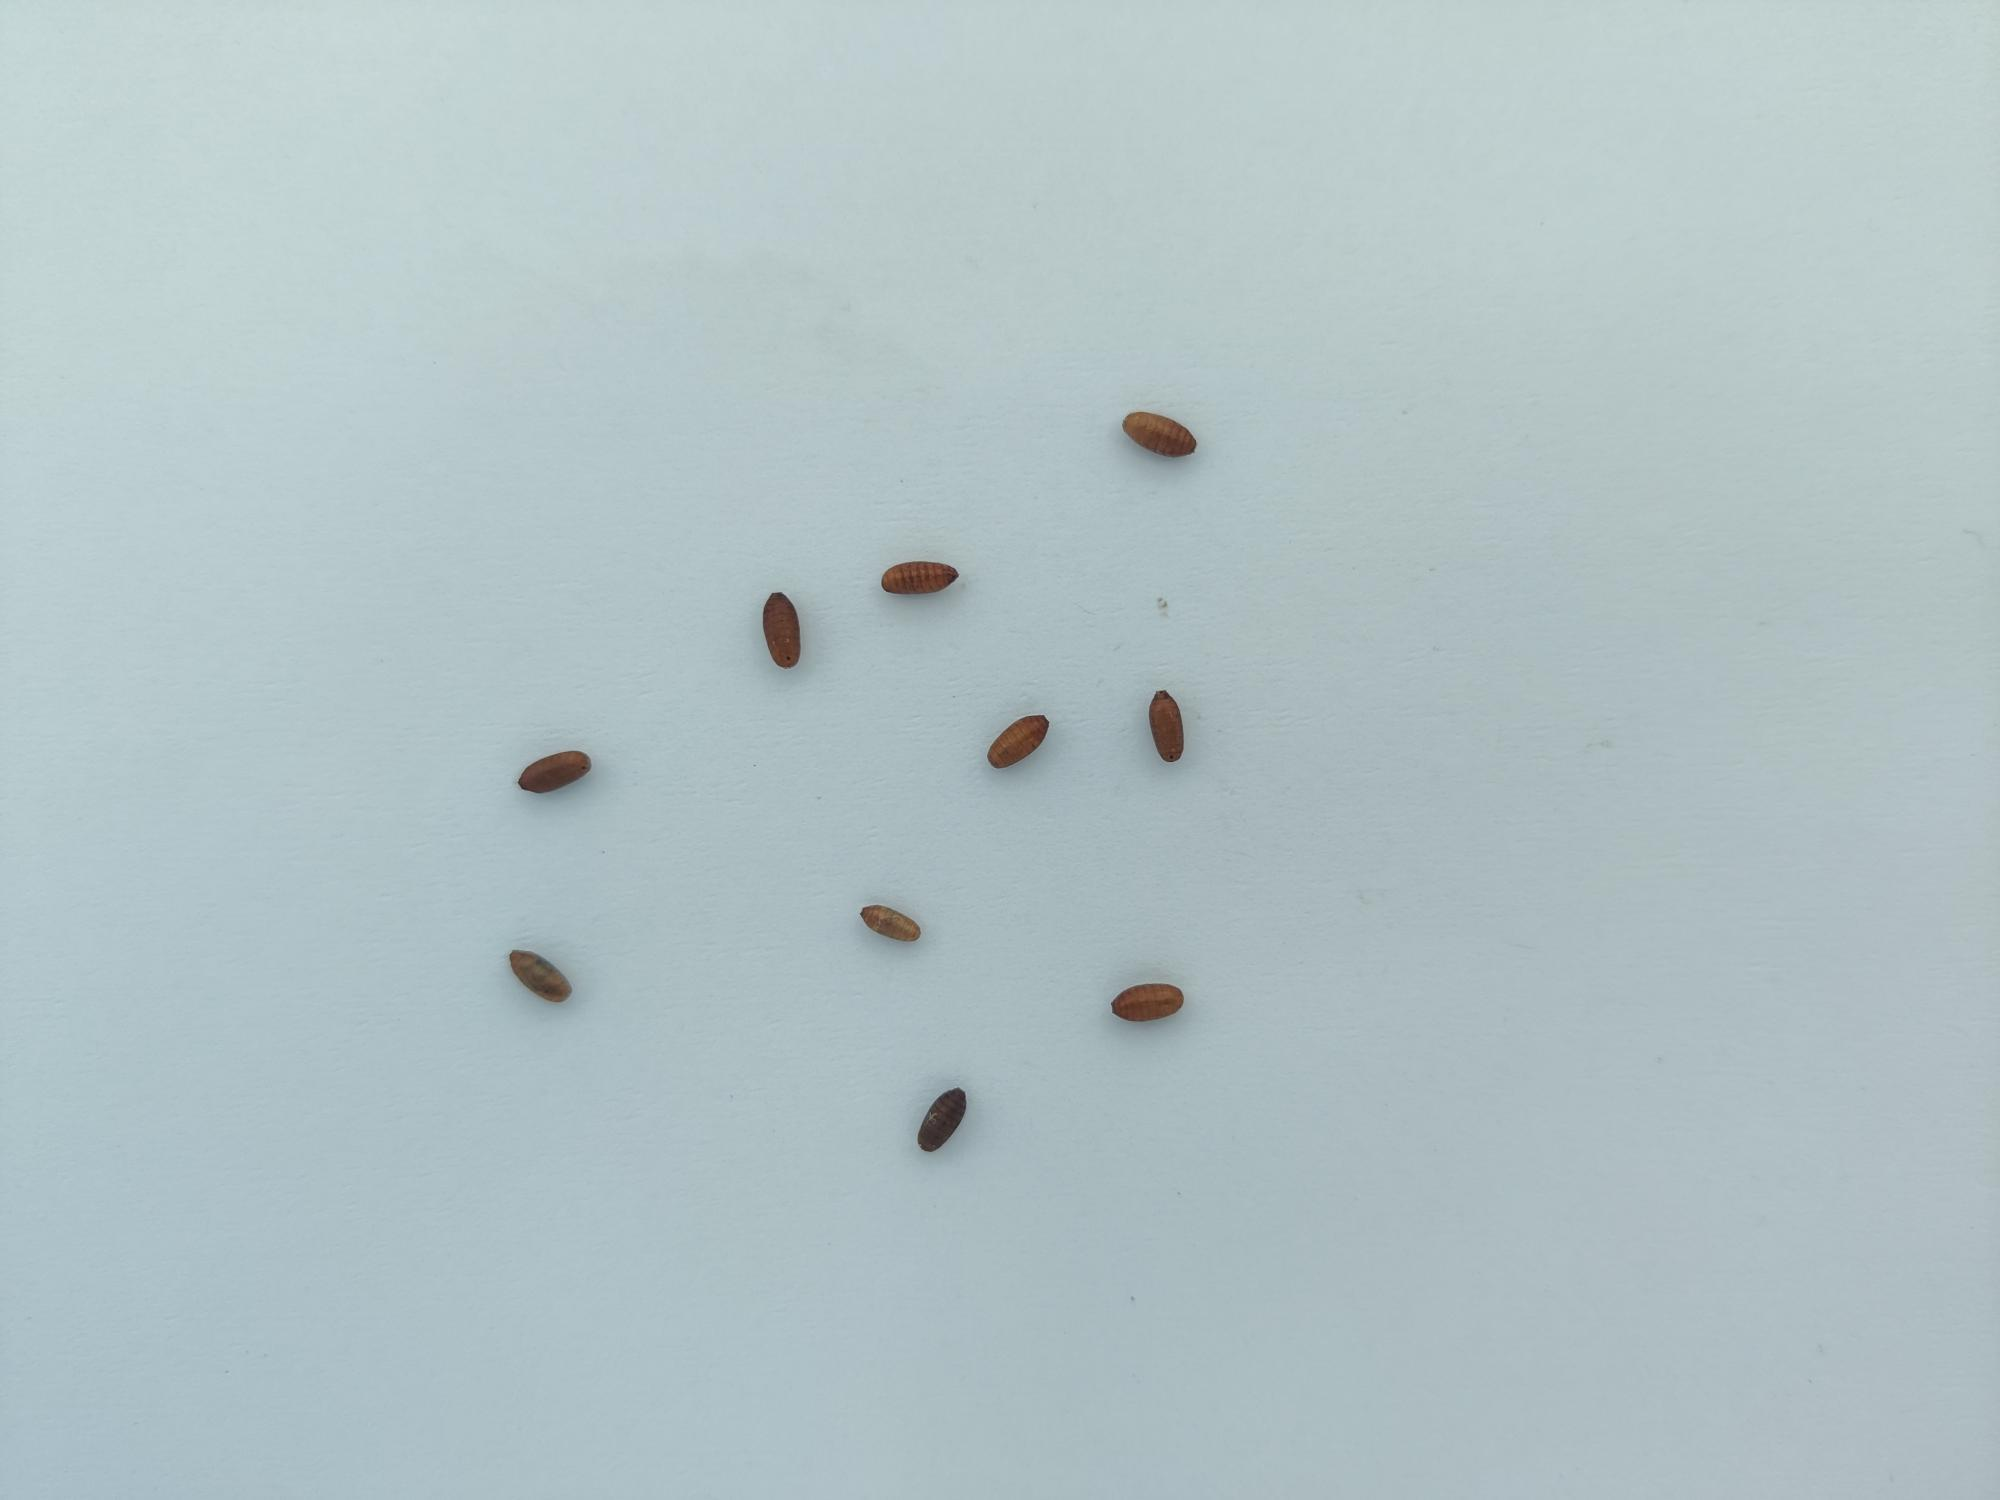pupae: (748, 578, 814, 685), (973, 707, 1065, 785), (874, 548, 972, 619), (502, 739, 605, 804), (1113, 397, 1205, 466), (899, 1086, 975, 1164), (499, 944, 584, 1013), (1139, 681, 1198, 774), (852, 893, 934, 956), (1102, 975, 1189, 1030)
